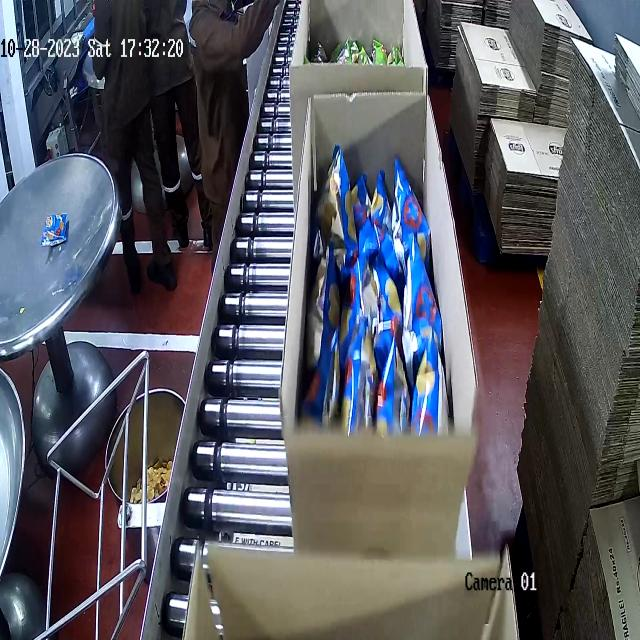PAPRIKA: (309, 150, 450, 442)
